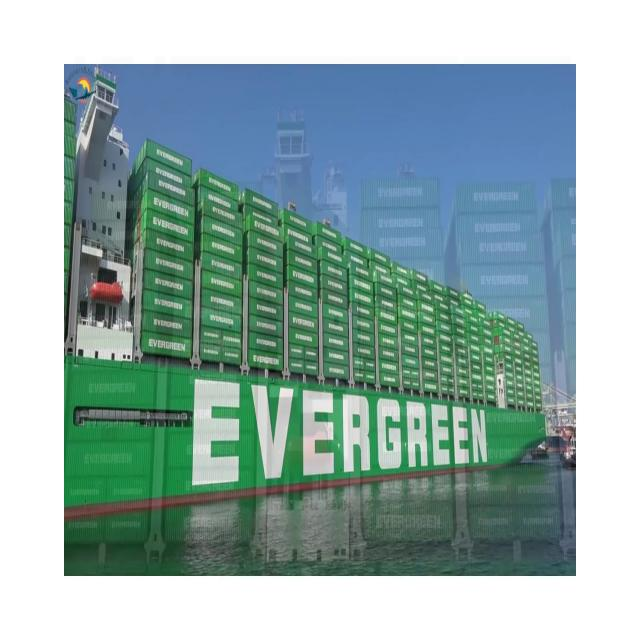OCR: (192, 379, 497, 502)
